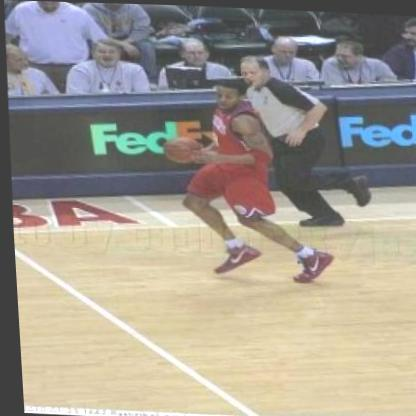basketball: (155, 127, 204, 167)
